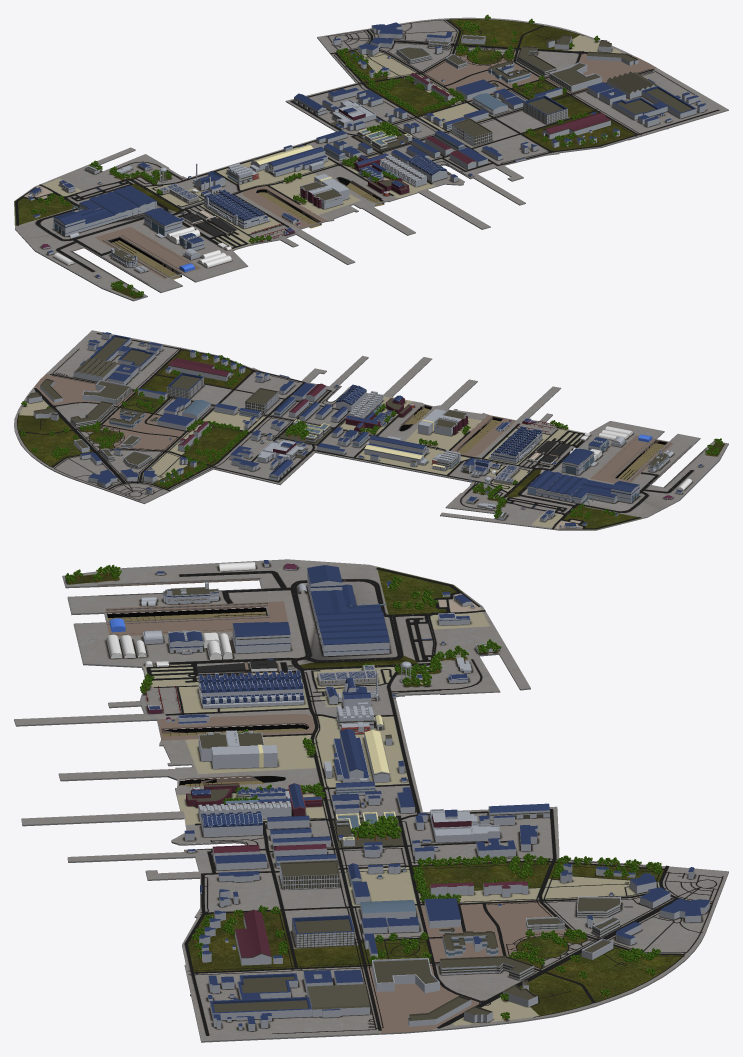
Rendered from phillyshipyard.glb.
3 views of the same model, one above another, from view 1: azimuth 30°, elevation 25°; view 2: azimuth 150°, elevation 25°; view 3: azimuth 270°, elevation 25° (orthographic). The views are drawn at different scales.
Visible parts, largest first — view 1: Philly.003; view 2: Philly.003; view 3: Philly.003.
Part boxes in pixels (x1,y1,x2,y2): Philly.003: (14, 14, 728, 301); Philly.003: (14, 330, 728, 530); Philly.003: (14, 559, 728, 1042).
Size of the model in its own units: 2391 by 75.16 by 1499.
41 materials, 15 textured.
